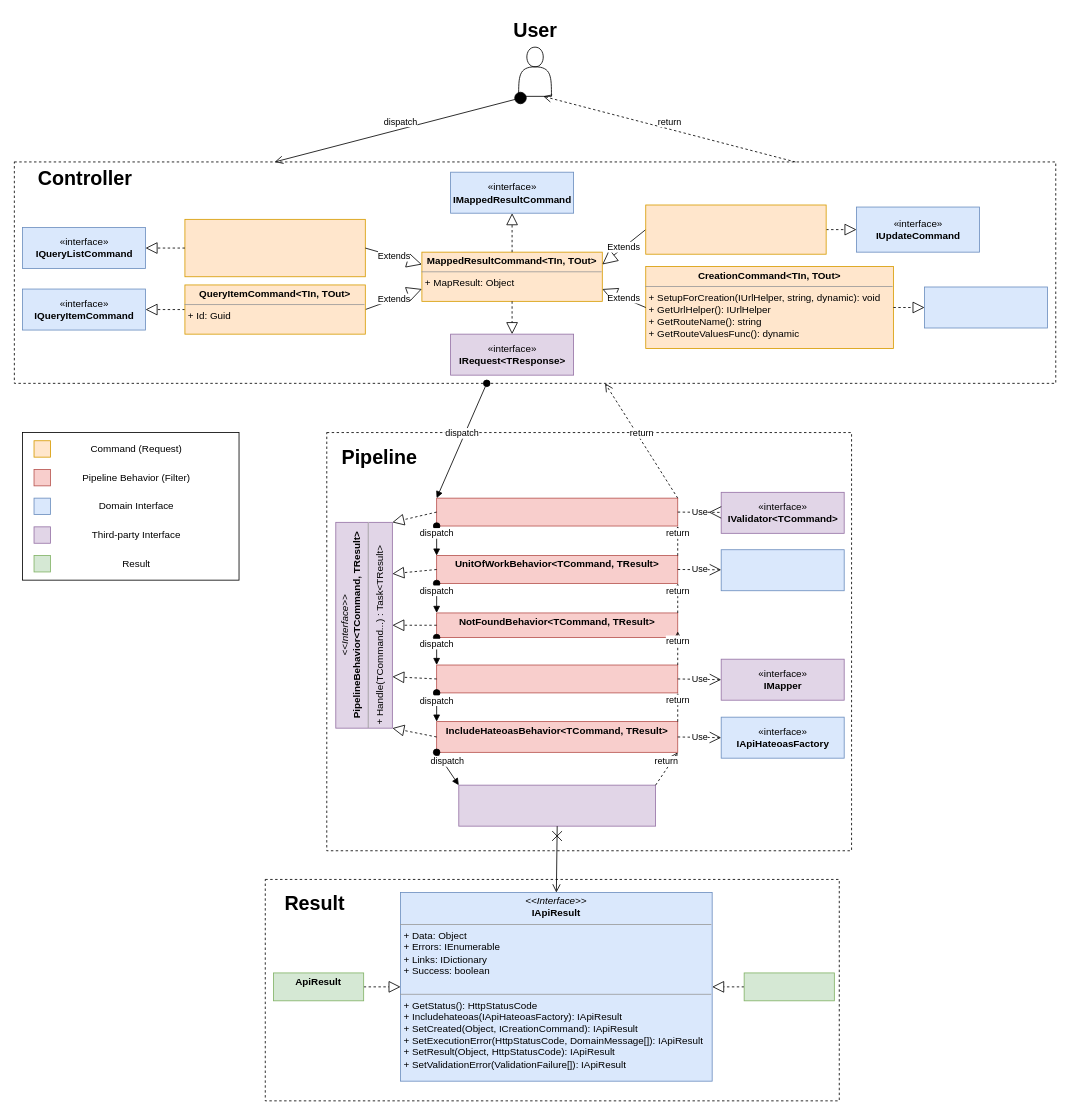
The diagram is 1070 pixels wide and 1115 high, and some of its shapes have lost their labels. The shapes that lost their labels are listed below. From the top down, each one's box as (x1, y1, x2, y2) in pixels, then its label:
(184, 219, 365, 277): QueryListCommand<TIn, TOut> + Page: int + PageSize: int
(645, 204, 826, 254): UpdateCommand<TIn, TOut> + Id: Guid
(924, 286, 1048, 328): «interface» ICreationCommand
(436, 497, 678, 526): RequestValidationBehavior<TCommand, TResult>
(720, 549, 844, 591): «interface» IUnitOfWork
(436, 664, 678, 693): MapperBehavior<TCommand, TResult>
(458, 784, 656, 826): «interface» IRequestHandler<TCommand, TResult>
(743, 972, 834, 1001): ApiCreatedResult
